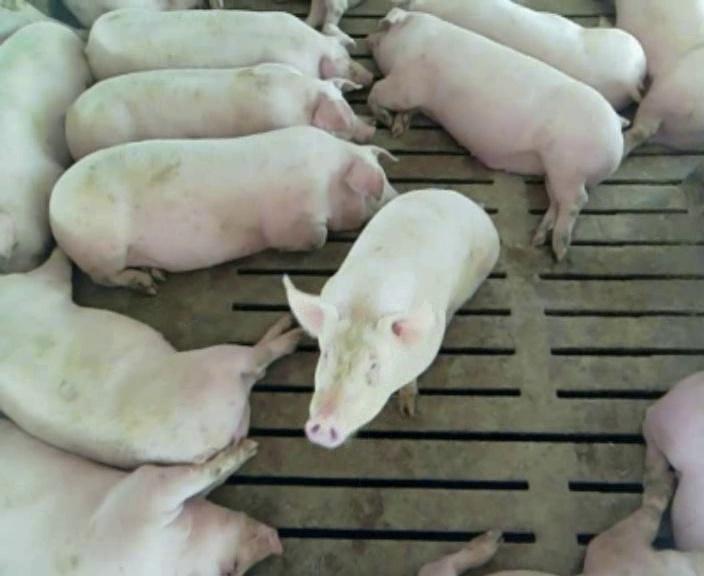pig: (369, 8, 622, 259), (50, 126, 395, 293), (284, 189, 498, 447), (65, 63, 376, 159), (408, 2, 645, 110), (0, 21, 90, 272), (617, 2, 703, 150), (644, 371, 703, 549)
